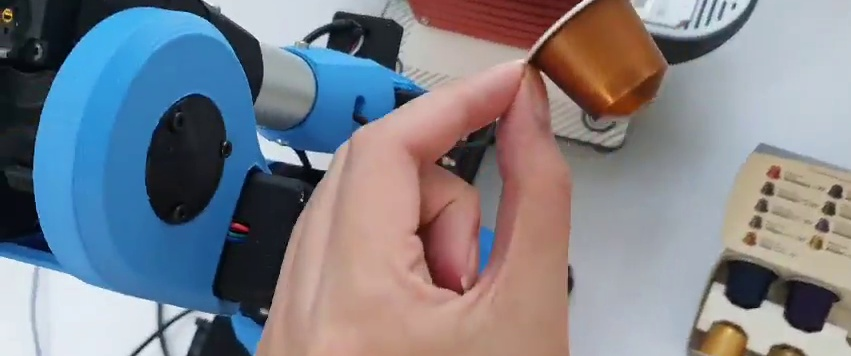capsule_3: (522, 1, 673, 120)
